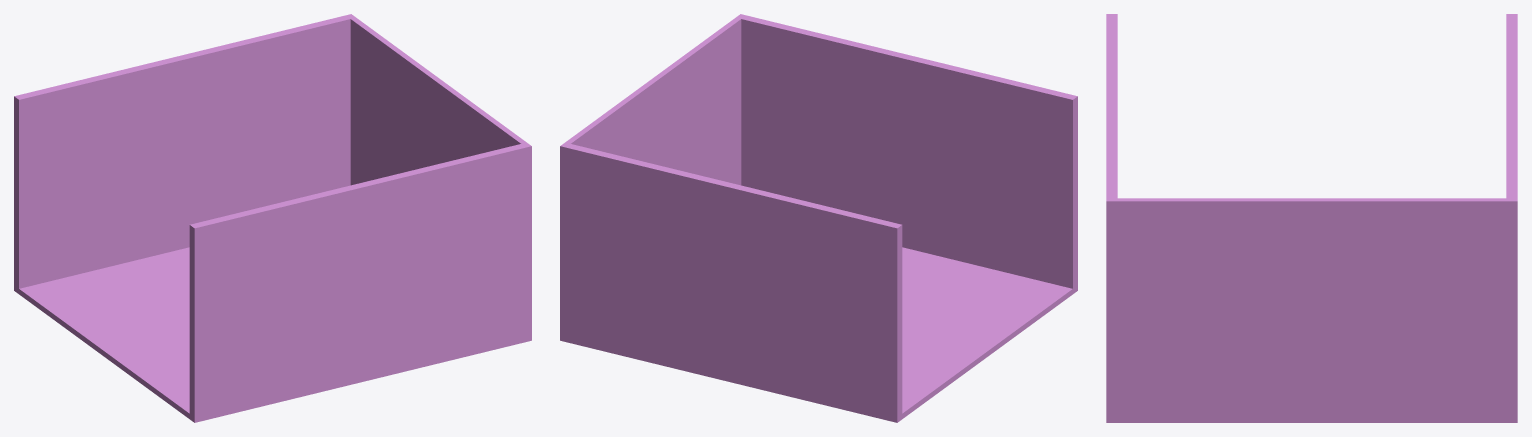
Rendered from map1.glb.
3 views of the same model, side by side, from view 1: azimuth 30°, elevation 25°; view 2: azimuth 150°, elevation 25°; view 3: azimuth 270°, elevation 25° (orthographic). The views are drawn at different scales.
Parts seen in each view (by area): view 1: Cube; view 2: Cube; view 3: Cube.
Boxes of the visible parts, x1,y1,x2,y2 form: Cube: (14, 14, 531, 422); Cube: (560, 14, 1077, 422); Cube: (1106, 14, 1517, 422).
Size of the model in its own units: 125 by 69.16 by 116.
